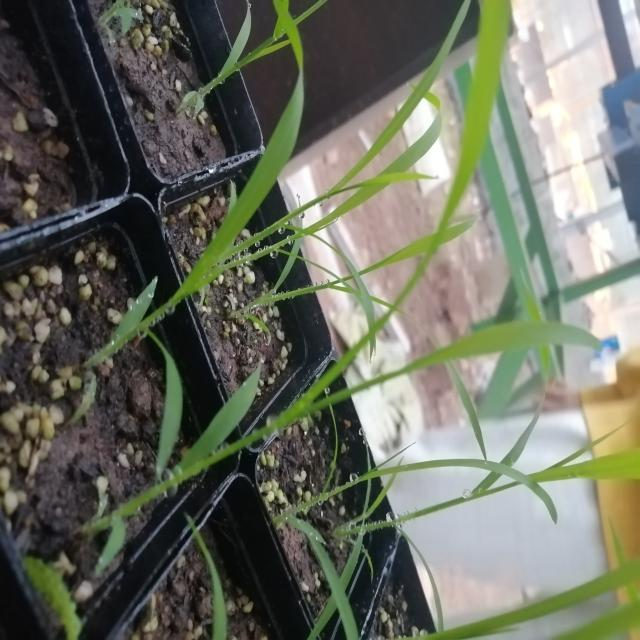crabgrass: (205, 61, 598, 409), (338, 403, 639, 592)
